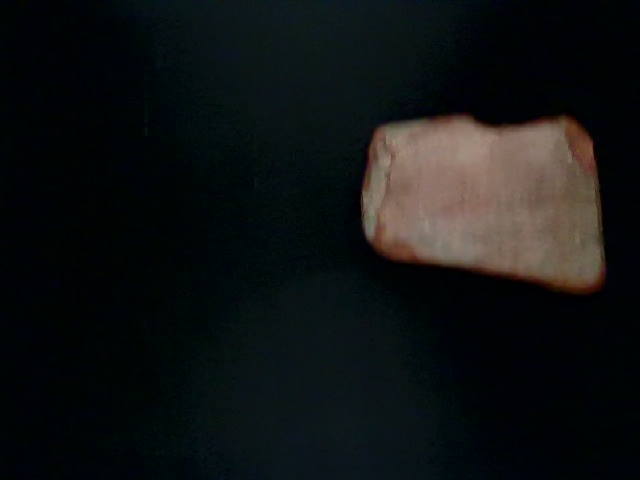KHSLJ: (284, 314, 608, 480)
